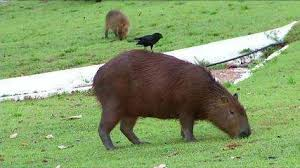capivara: (93, 49, 252, 151), (102, 10, 129, 42)
